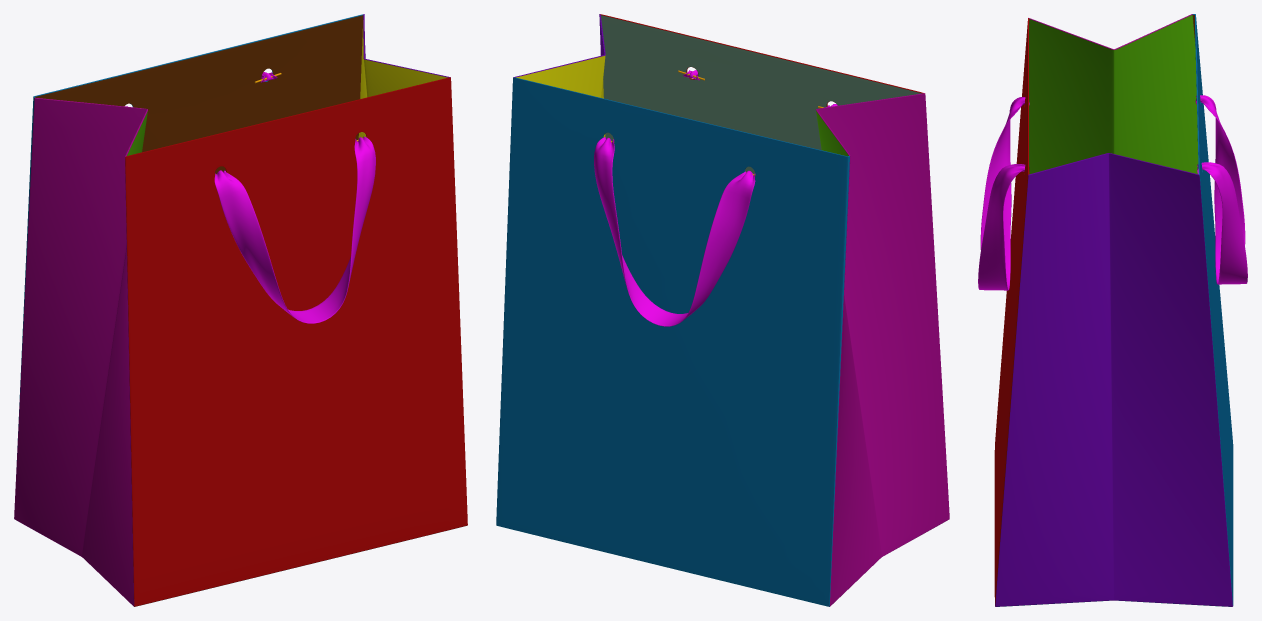
File: gift_paper_bag.fbx
3 renders of one model, left to right at view 1: azimuth 30°, elevation 25°; view 2: azimuth 150°, elevation 25°; view 3: azimuth 270°, elevation 25°, orthographic.
Parts seen in each view (by area): view 1: gift_paper_bag; view 2: gift_paper_bag; view 3: gift_paper_bag.
Part boxes in pixels (<box>): gift_paper_bag: <box>14,14,467,606</box>; gift_paper_bag: <box>496,14,949,606</box>; gift_paper_bag: <box>978,14,1247,606</box>.
Bounding box in the file's own units: 19.17 × 23.96 × 13.55.
